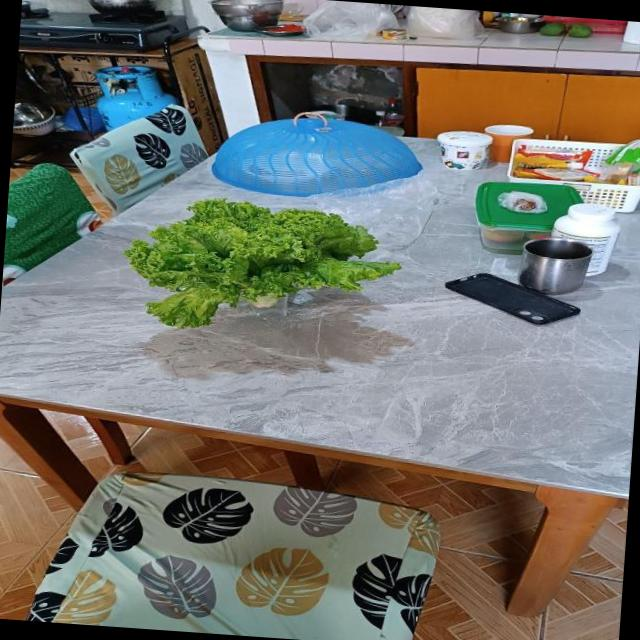Lettuce-Ready-to-Harvest: (118, 192, 402, 338)
